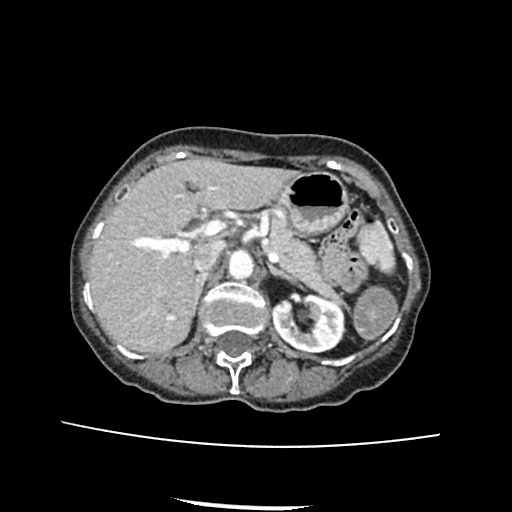aorta: (228, 247, 253, 281)
